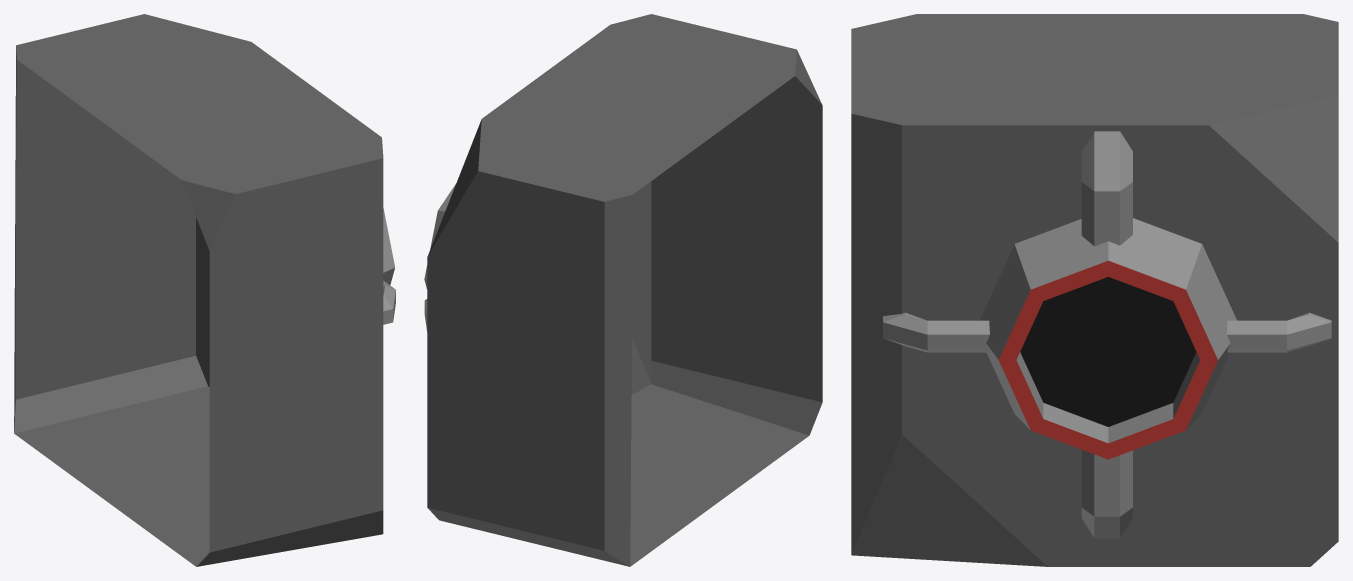
Rendered from trap_fire (1).fbx.
The picture shows the model from 3 angles, left to right: view 1: azimuth 30°, elevation 25°; view 2: azimuth 150°, elevation 25°; view 3: azimuth 270°, elevation 25°; orthographic projection. The views are drawn at different scales.
Visible parts, largest first — view 1: Cube.030; view 2: Cube.030; view 3: Cube.030.
Boxes of the visible parts, bbox=[...] form: Cube.030: bbox=[14, 14, 395, 566]; Cube.030: bbox=[424, 14, 822, 566]; Cube.030: bbox=[851, 14, 1338, 566].
Bounding box in the file's own units: 47.9 × 69.31 × 69.31.
